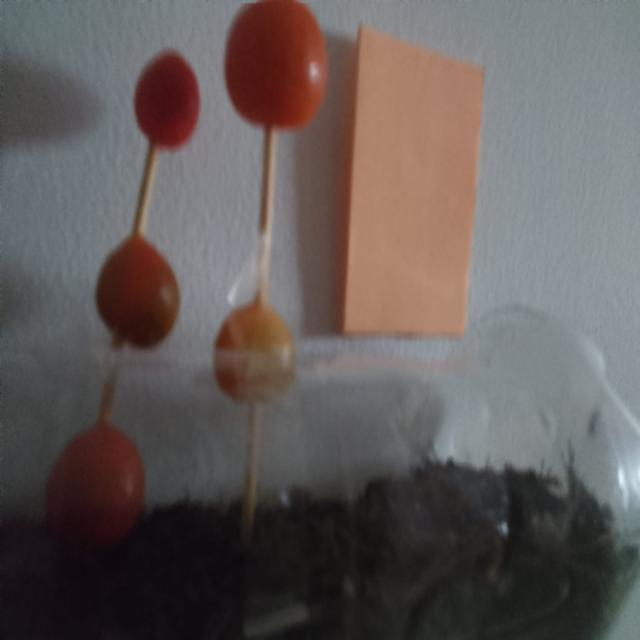card: (341, 25, 483, 337)
fruit_maturation: (213, 303, 295, 403)
fully_grown: (225, 0, 327, 128), (46, 420, 145, 546), (96, 236, 179, 348), (134, 50, 199, 158)
